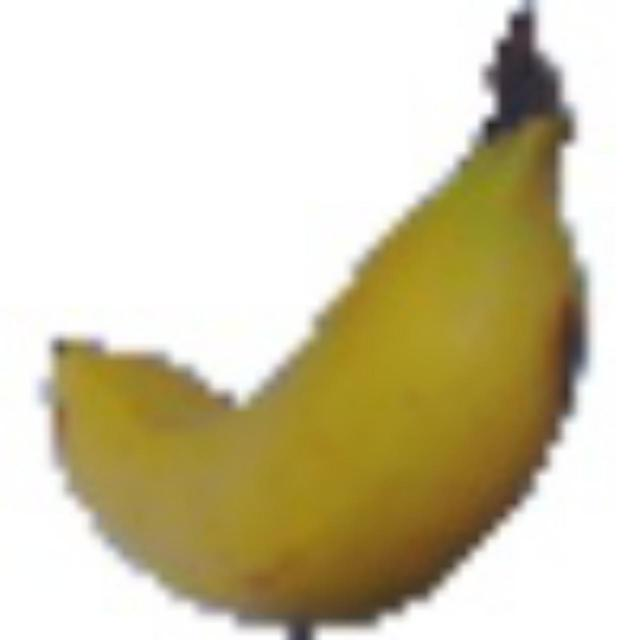banana: (0, 0, 582, 633)
